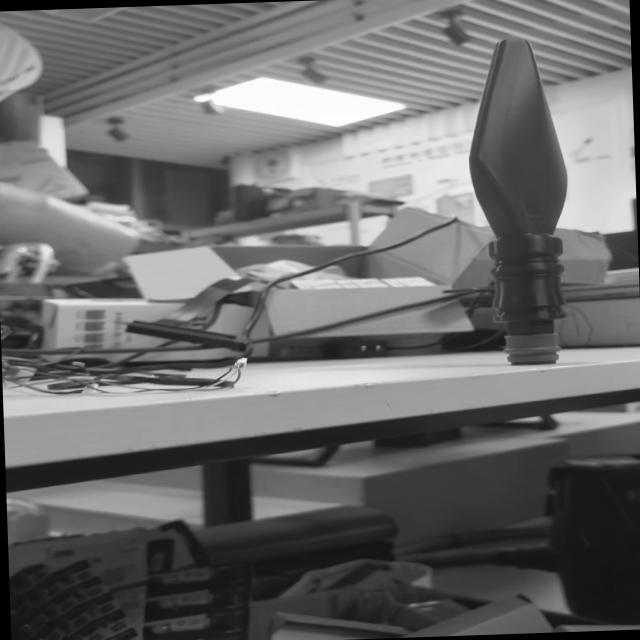base: (496, 330, 565, 370)
